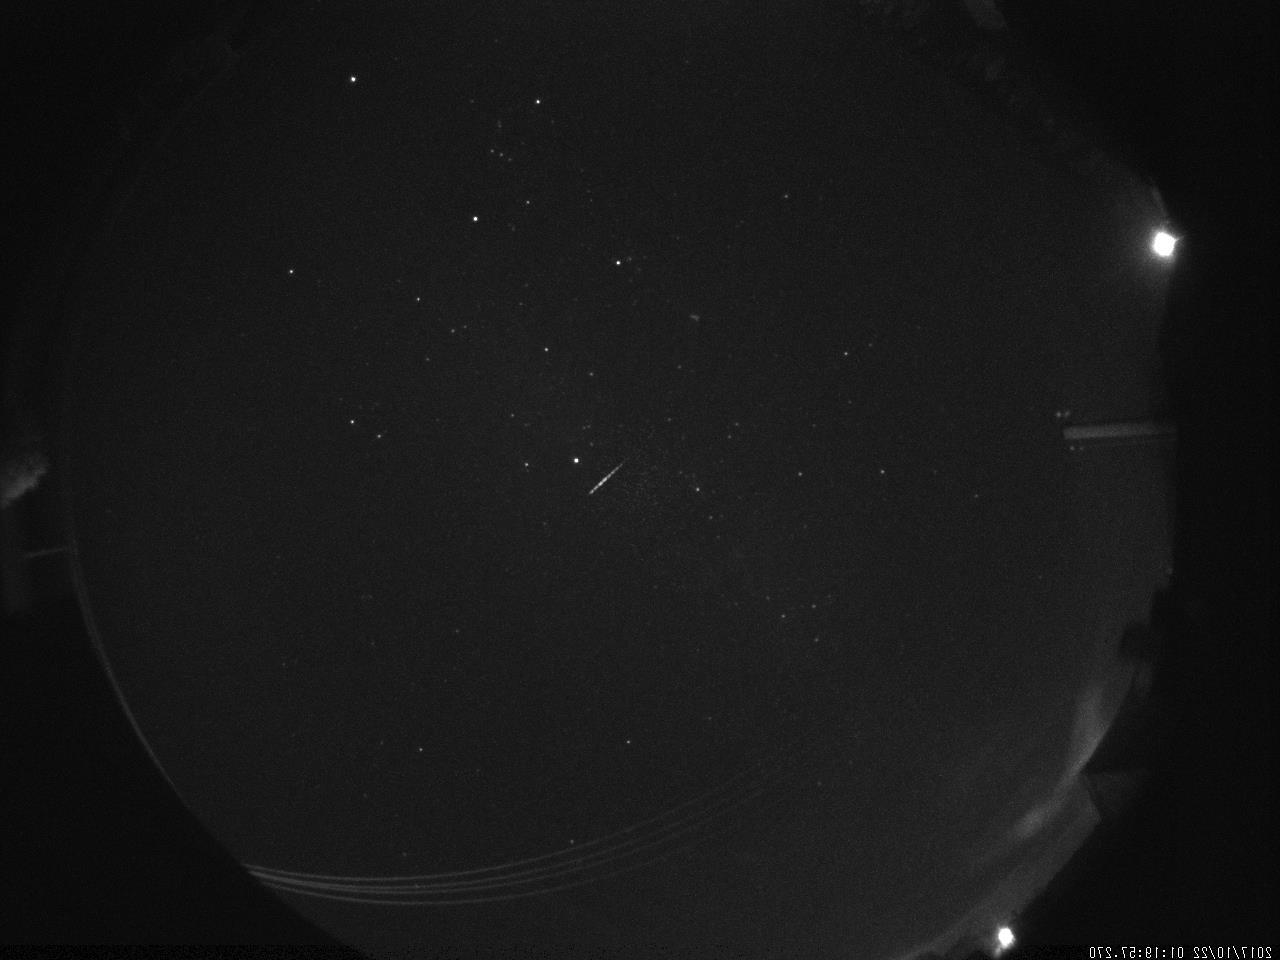meteor: (547, 440, 657, 517)
